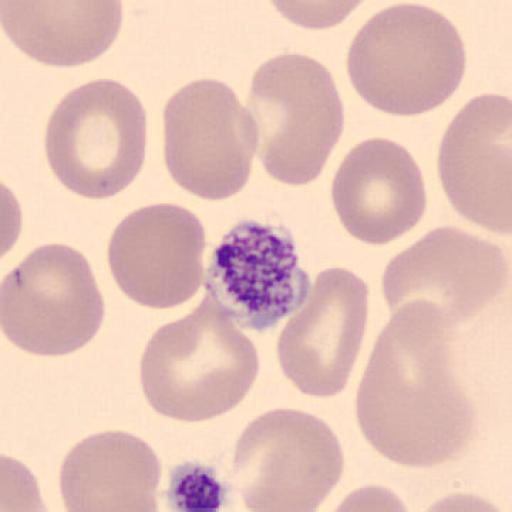Platelet: (202, 216, 316, 334), (162, 458, 231, 512)
RBC: (354, 298, 478, 470), (138, 295, 262, 423), (379, 224, 510, 338), (344, 2, 468, 118), (243, 52, 346, 188), (274, 263, 370, 401), (44, 76, 148, 202), (227, 406, 346, 512), (161, 77, 260, 204), (2, 240, 106, 358), (106, 201, 208, 312), (330, 136, 428, 248), (436, 91, 512, 235), (58, 428, 164, 511), (1, 0, 124, 69), (266, 0, 373, 31), (2, 451, 52, 512), (326, 482, 414, 512), (0, 180, 24, 269), (416, 489, 512, 511)
